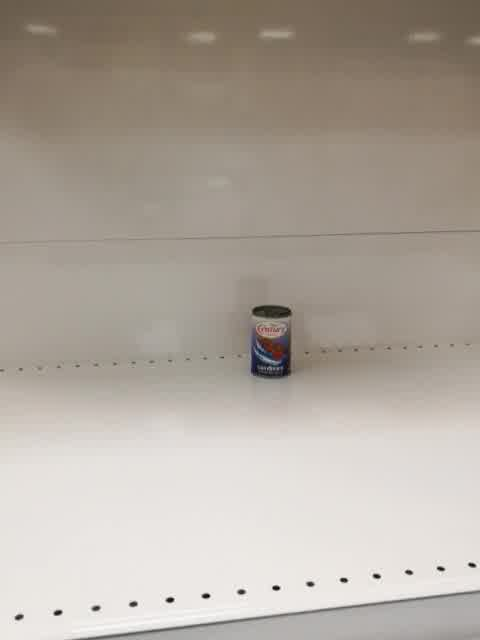sardine: (249, 304, 294, 379)
